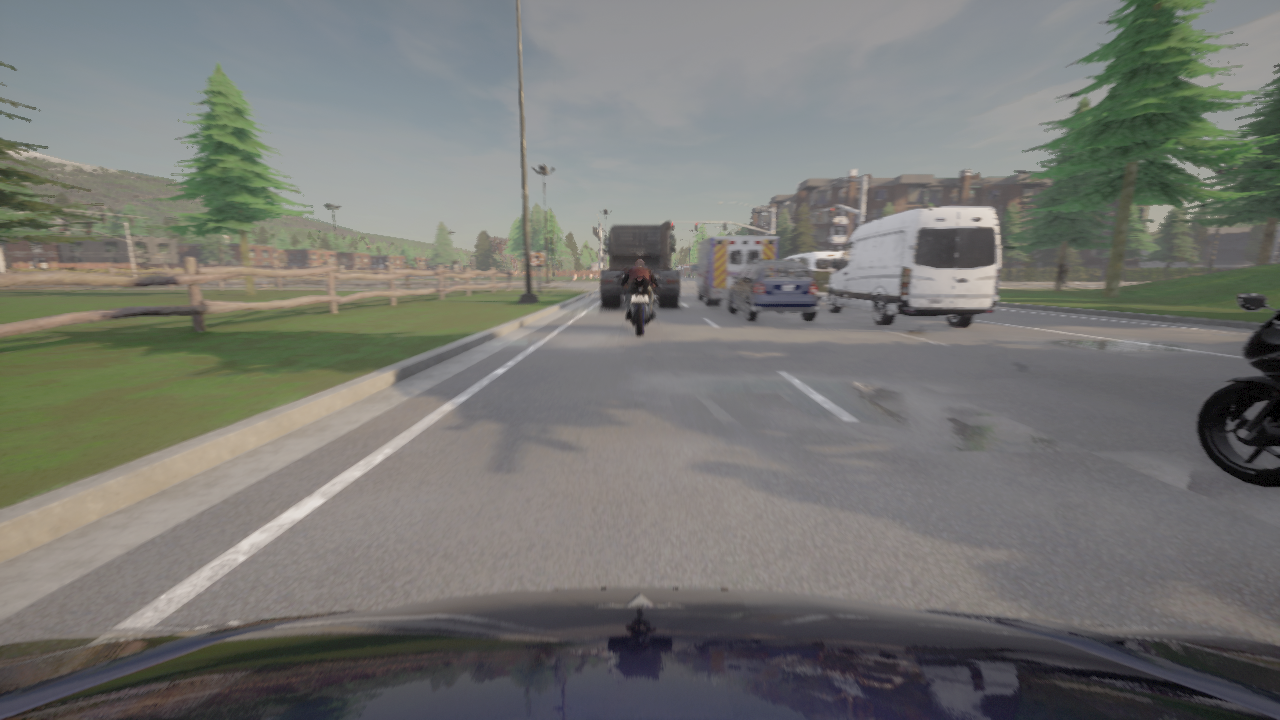cyclist: (0, 588, 1279, 719), (827, 207, 1001, 326), (1196, 295, 1279, 487), (600, 221, 679, 307), (691, 236, 778, 306), (728, 260, 818, 321), (783, 251, 842, 300), (621, 274, 658, 335)
pedestrian: (1062, 264, 1070, 287), (404, 261, 410, 288), (452, 261, 458, 286)
